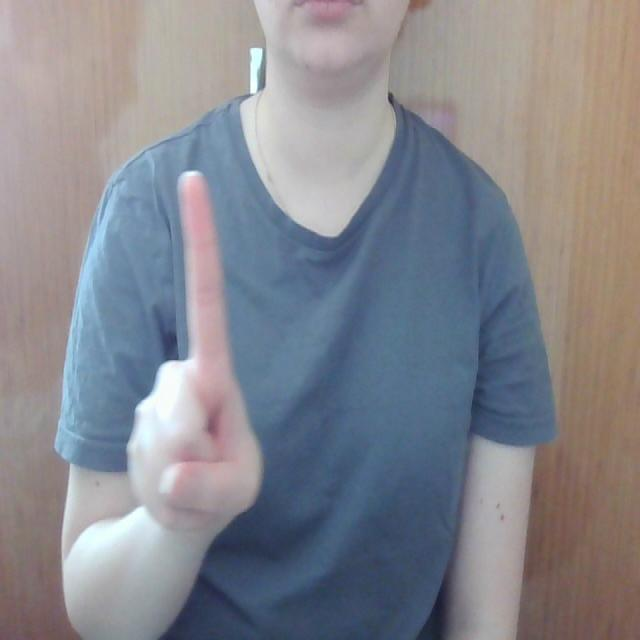Hayir: (111, 142, 268, 544)
